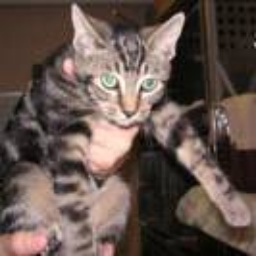cat: (3, 4, 248, 256)
